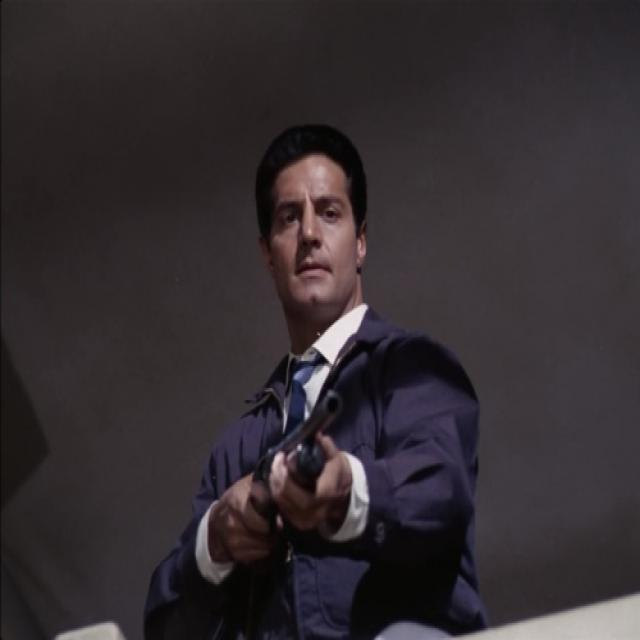rifle: (250, 376, 354, 504)
